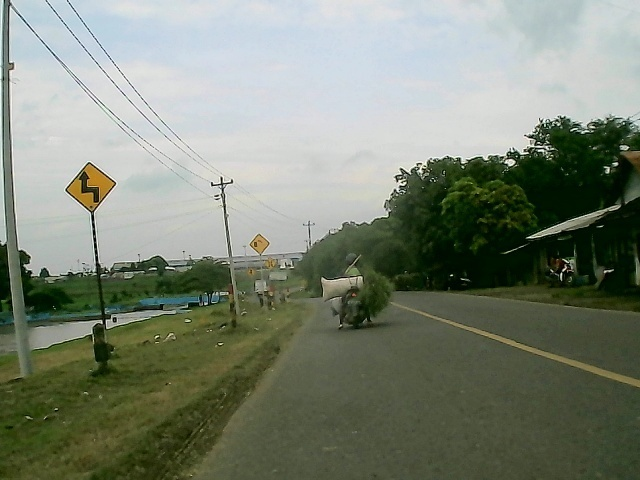Peringatan tepi air: (249, 231, 271, 257)
Tikungan garda pertama kiri: (64, 161, 117, 213)
